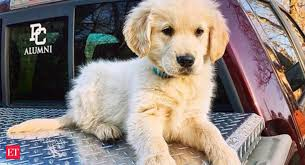Bulldog: (42, 1, 252, 162)
